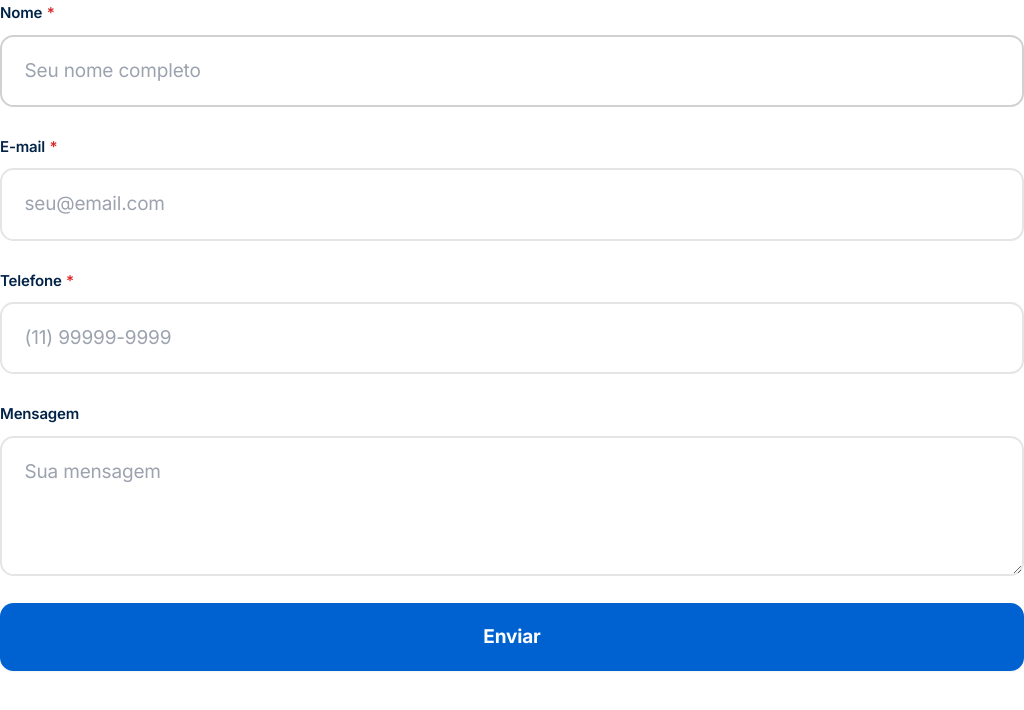
Test case: ContactForm › displays error message and preserves form data on submission failure
This screenshot has width=1024, height=710.
Type "João Silva" into the field labelled "Nome*" at (512, 71), box [0,34,1023,107]
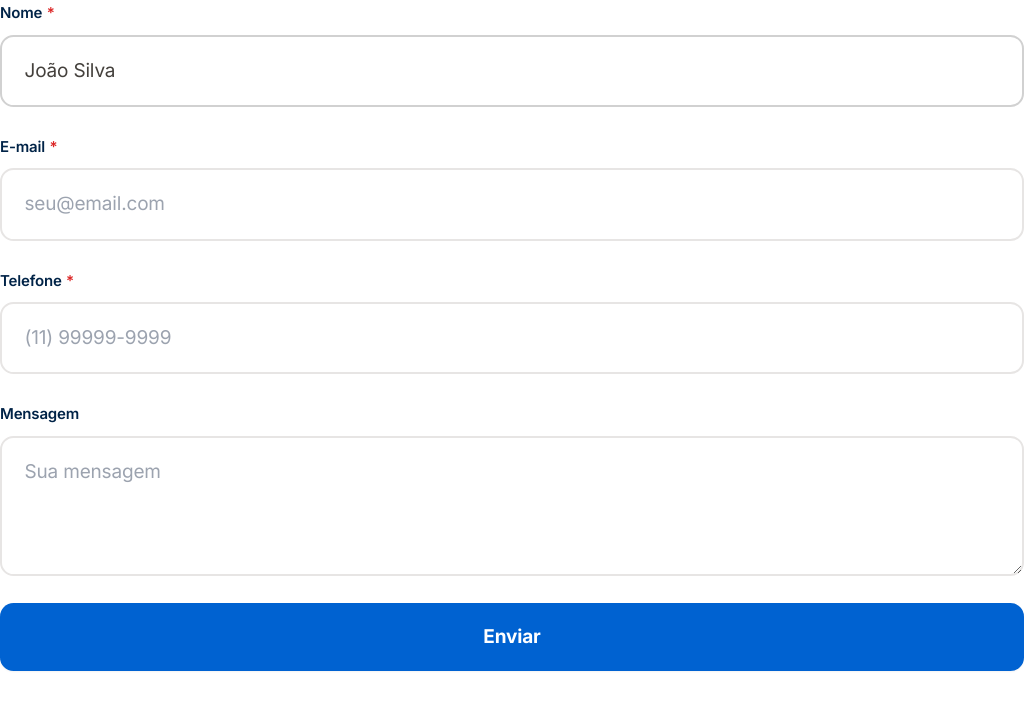
Type "joao@email.com" into the field labelled "E-mail*" at (512, 204), box [0,168,1023,241]
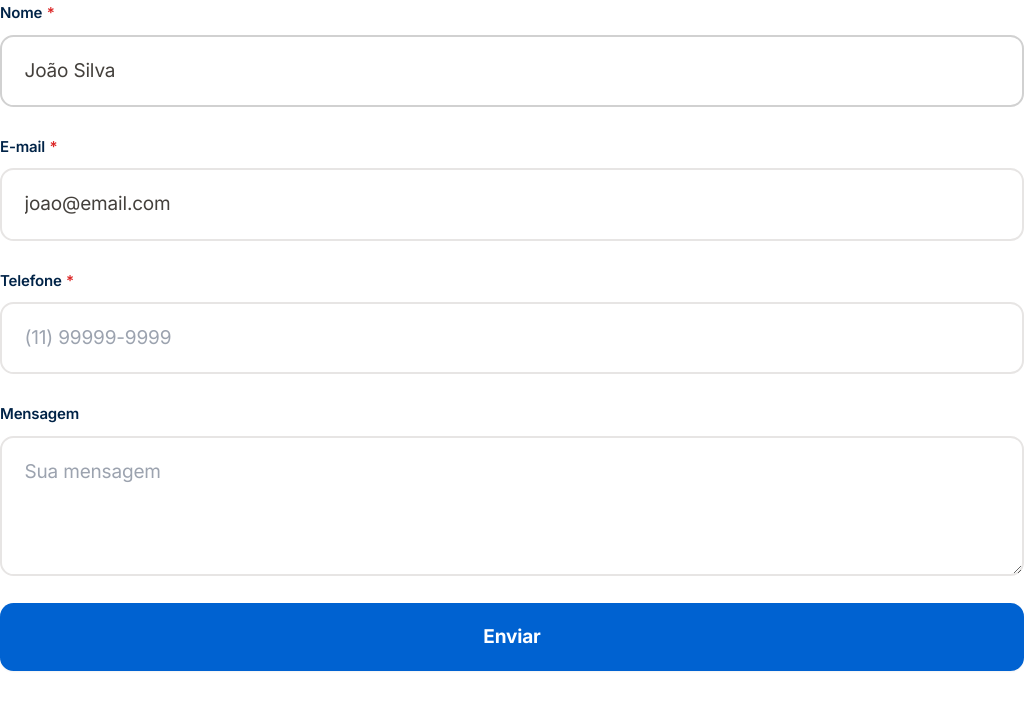
Type "11999999999" into the field labelled "Telefone*" at (512, 338), box [0,302,1023,374]
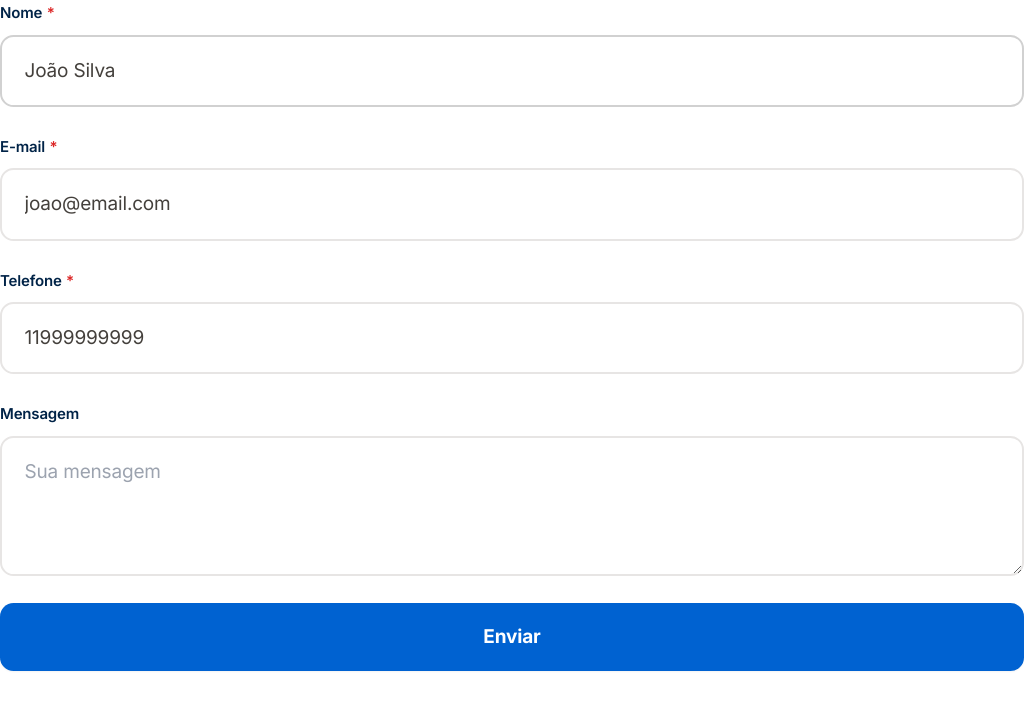
Click the button "Enviar" at (512, 637), box [0,603,1023,671]
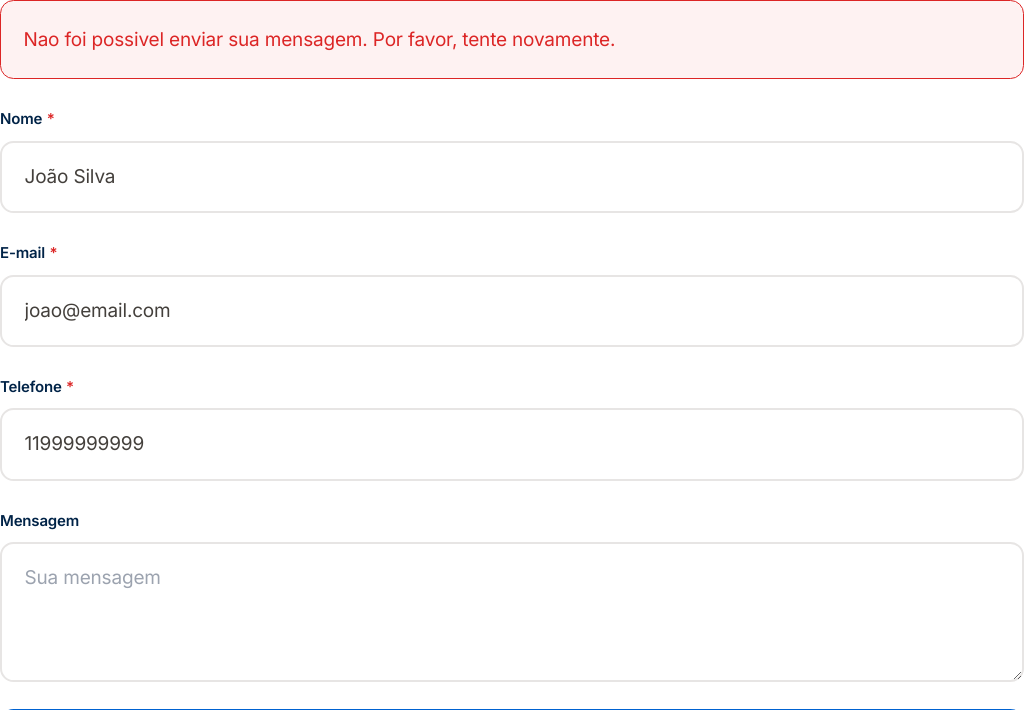
Result: the text "Nao foi possivel enviar sua mensagem. Por favor, tente novamente." is shown at [0,0,1023,79]
